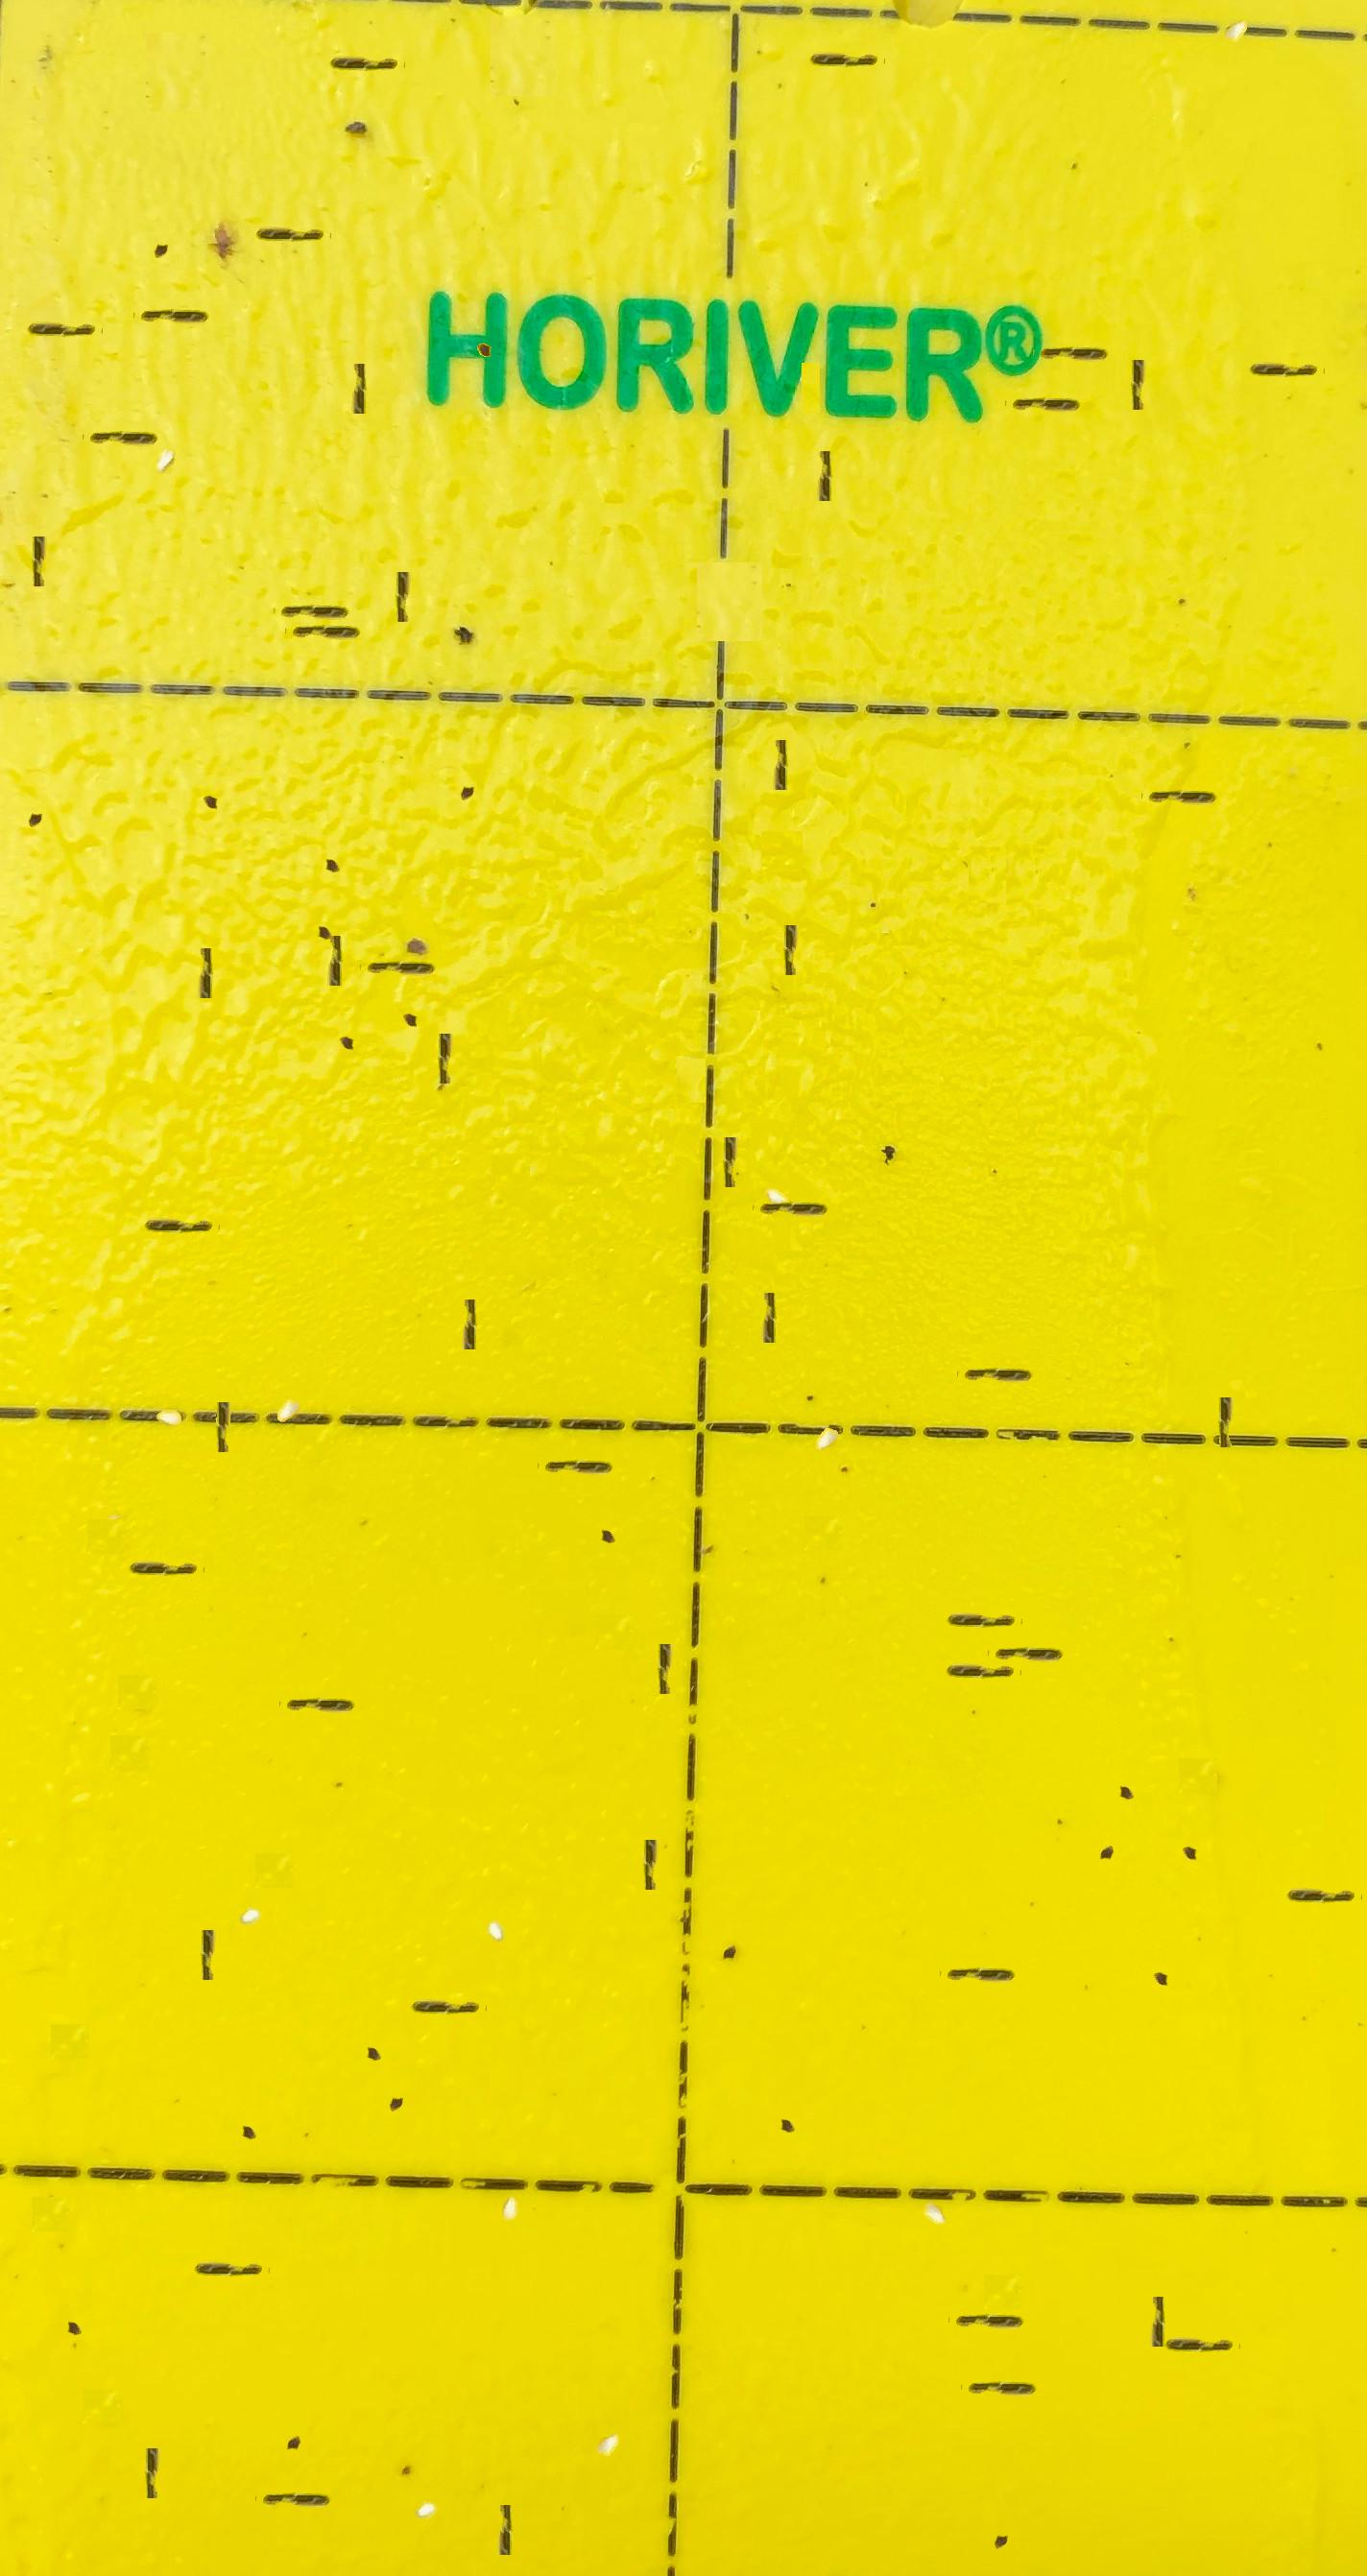white_fly: (406, 2438, 448, 2487), (476, 1859, 518, 1906), (230, 1845, 273, 1893), (757, 1135, 799, 1179), (268, 1344, 310, 1389), (141, 390, 184, 434), (806, 1373, 849, 1416), (586, 2382, 629, 2424), (914, 2148, 955, 2191), (487, 2153, 528, 2191), (150, 1365, 191, 1400)
